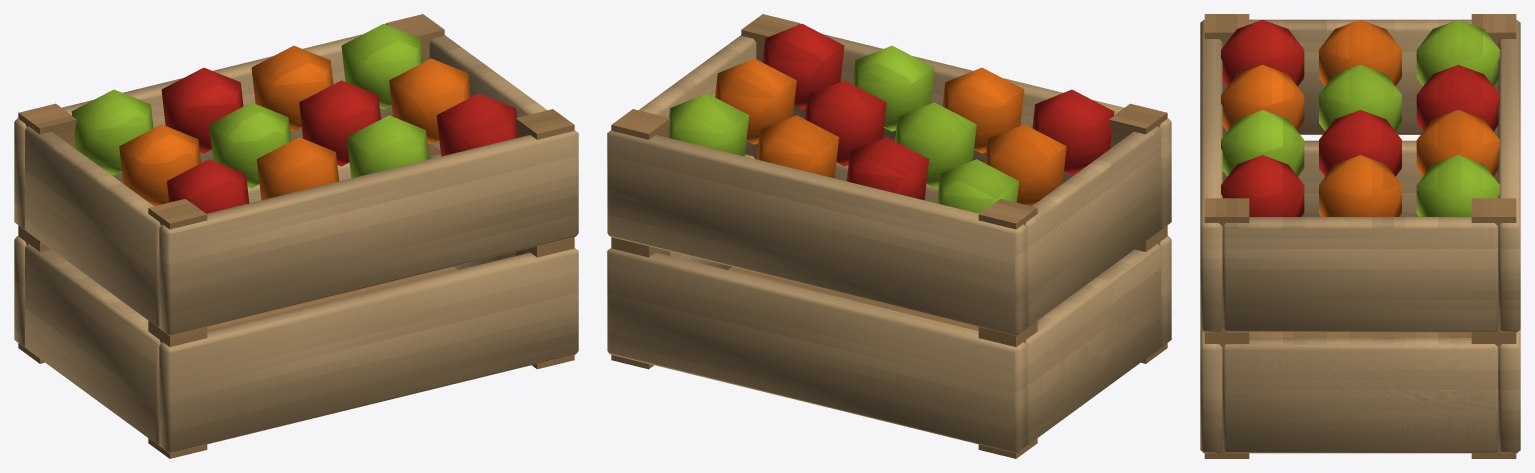
File: caixote_feira.glb
The picture shows the model from 3 angles, left to right: view 1: azimuth 30°, elevation 25°; view 2: azimuth 150°, elevation 25°; view 3: azimuth 270°, elevation 25°; orthographic projection. The views are drawn at different scales.
Parts seen in each view (by area): view 1: Inteiro, Peca_02, Peca_03, Peca_04; view 2: Inteiro, Peca_02, Peca_04, Peca_03; view 3: Inteiro, Peca_03, Peca_04, Peca_02.
Boxes of the visible parts, x1,y1,x2,y2 form: Inteiro: (14,14,578,458); Peca_02: (25,127,160,445); Peca_03: (430,35,538,114); Peca_04: (207,266,457,331); Inteiro: (607,14,1171,458); Peca_02: (1025,127,1160,445); Peca_04: (728,266,978,331); Peca_03: (643,36,756,157); Inteiro: (1200,14,1520,458); Peca_03: (1222,232,1498,452); Peca_04: (1249,332,1471,337); Peca_02: (1249,19,1471,118).
Size of the model in its own units: 0.55 by 0.335 by 0.36.
1 material, 1 textured.
